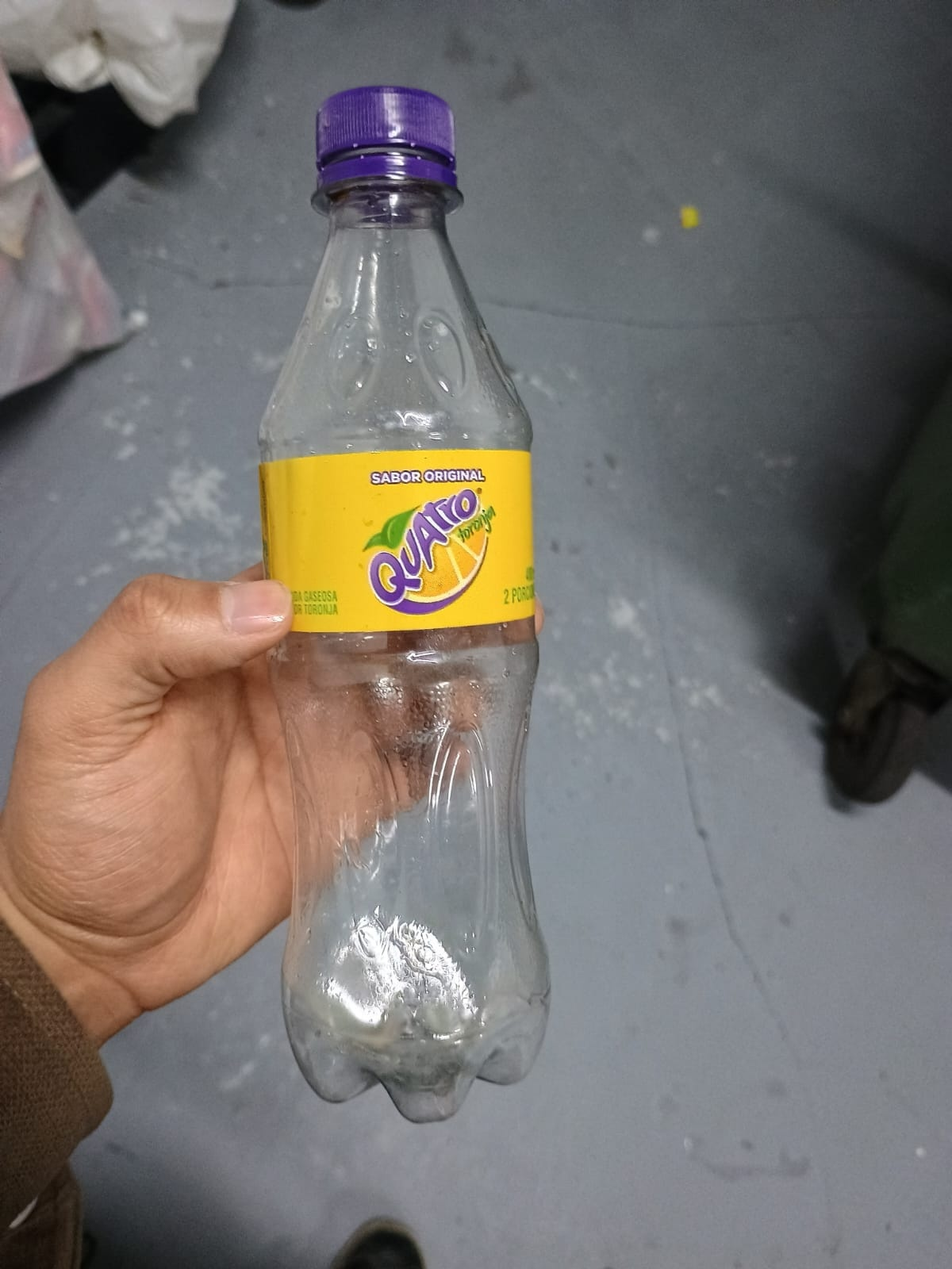Plastico: (258, 85, 552, 1122)
